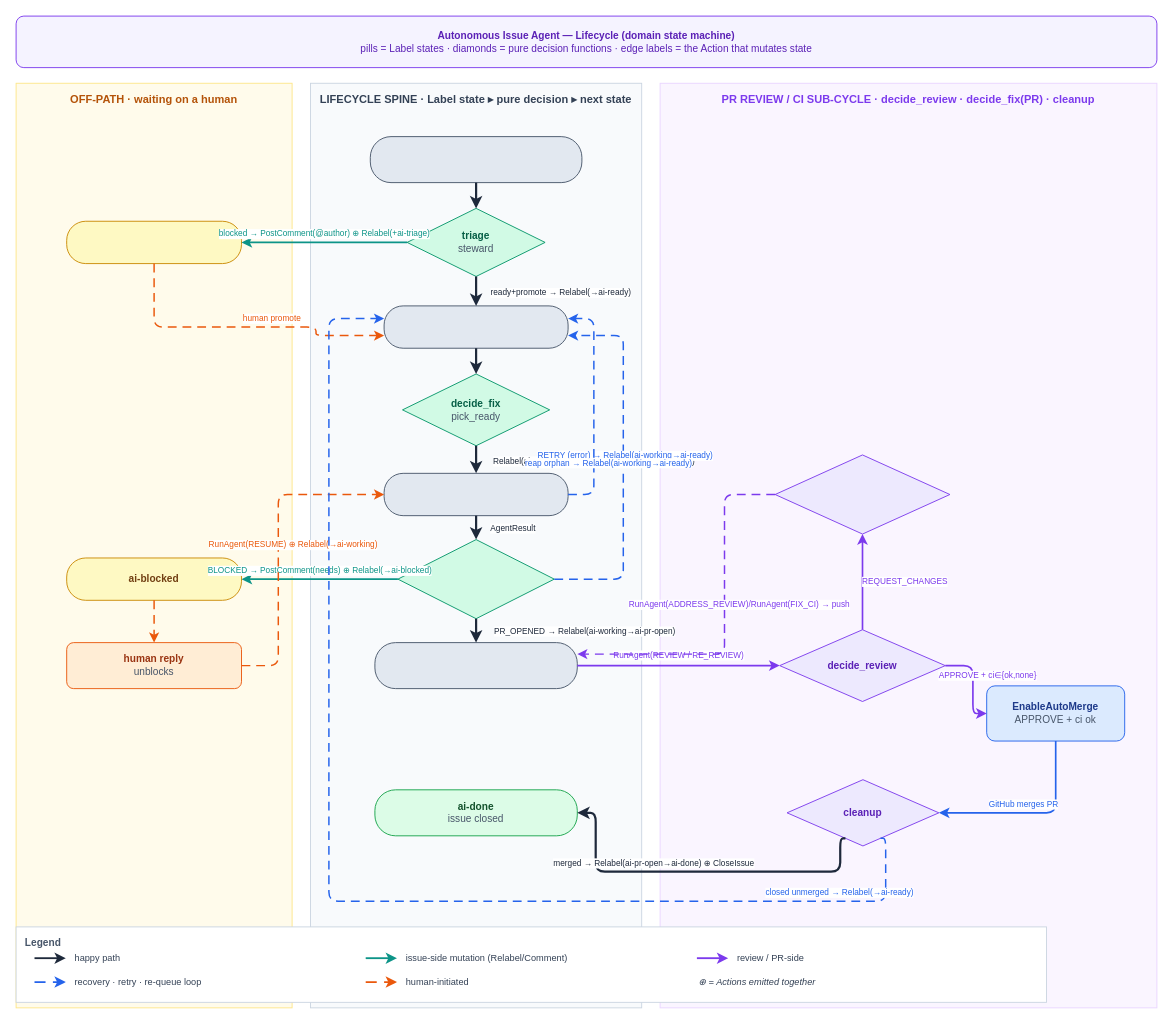
This 1173x1024 diagram has some shape labels left out. Here are the shapes that lost their labels. From the top down, the centre of each, then its label:
At (475,159): "open issue no lifecycle label".
At (154,242): "ai-triage".
At (475,326): "ai-ready".
At (475,494): "ai-working".
At (862,494): "decide_fix PR branch ci_state · review".
At (475,579): "resolve_ followup envelope".
At (475,665): "ai-pr-open issue + PR".
